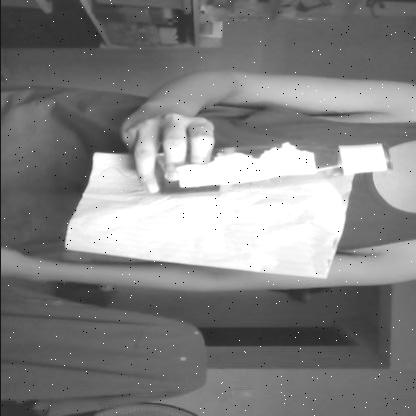Plastic Bottle: (136, 141, 389, 191)
